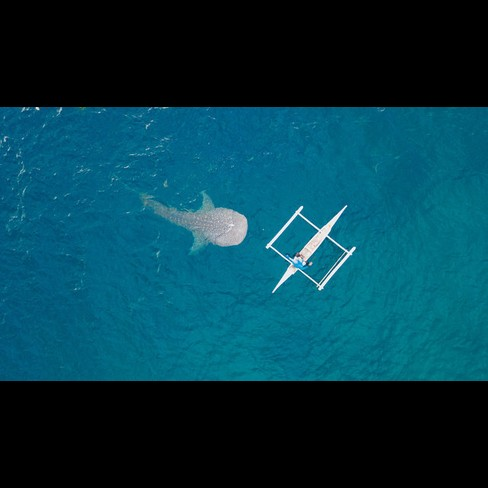boat: (257, 200, 360, 301)
